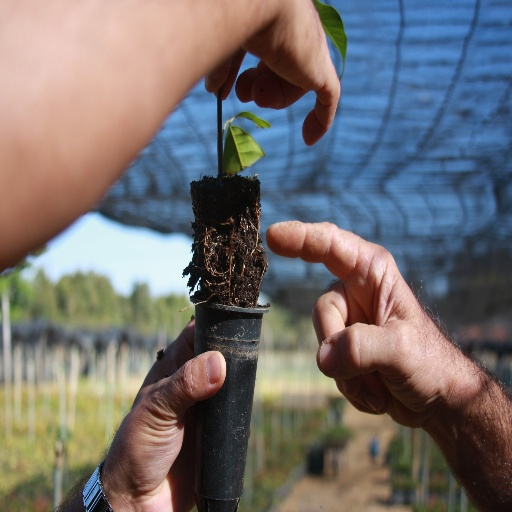hand: (266, 218, 459, 432), (76, 338, 224, 509), (203, 0, 341, 147)
